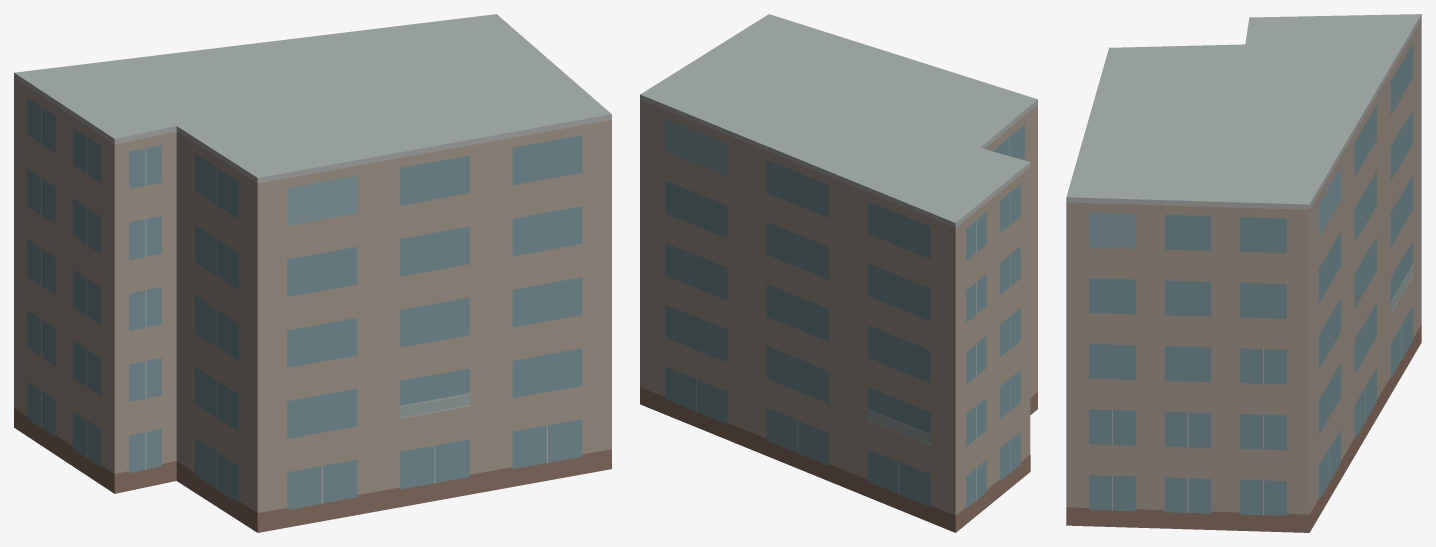
Rendered from survey-upis-32498782.glb.
3 views of the same model, side by side, from view 1: azimuth 30°, elevation 25°; view 2: azimuth 150°, elevation 25°; view 3: azimuth 270°, elevation 25° (orthographic). The views are drawn at different scales.
Parts seen in each view (by area): view 1: survey-upis-32498782.tmp; view 2: survey-upis-32498782.tmp; view 3: survey-upis-32498782.tmp.
Boxes of the visible parts, x1=… form: survey-upis-32498782.tmp: x1=14, y1=14, x2=611, y2=532; survey-upis-32498782.tmp: x1=640, y1=14, x2=1037, y2=532; survey-upis-32498782.tmp: x1=1066, y1=14, x2=1421, y2=532.
Size of the model in its own units: 18.99 by 15.25 by 14.96.
